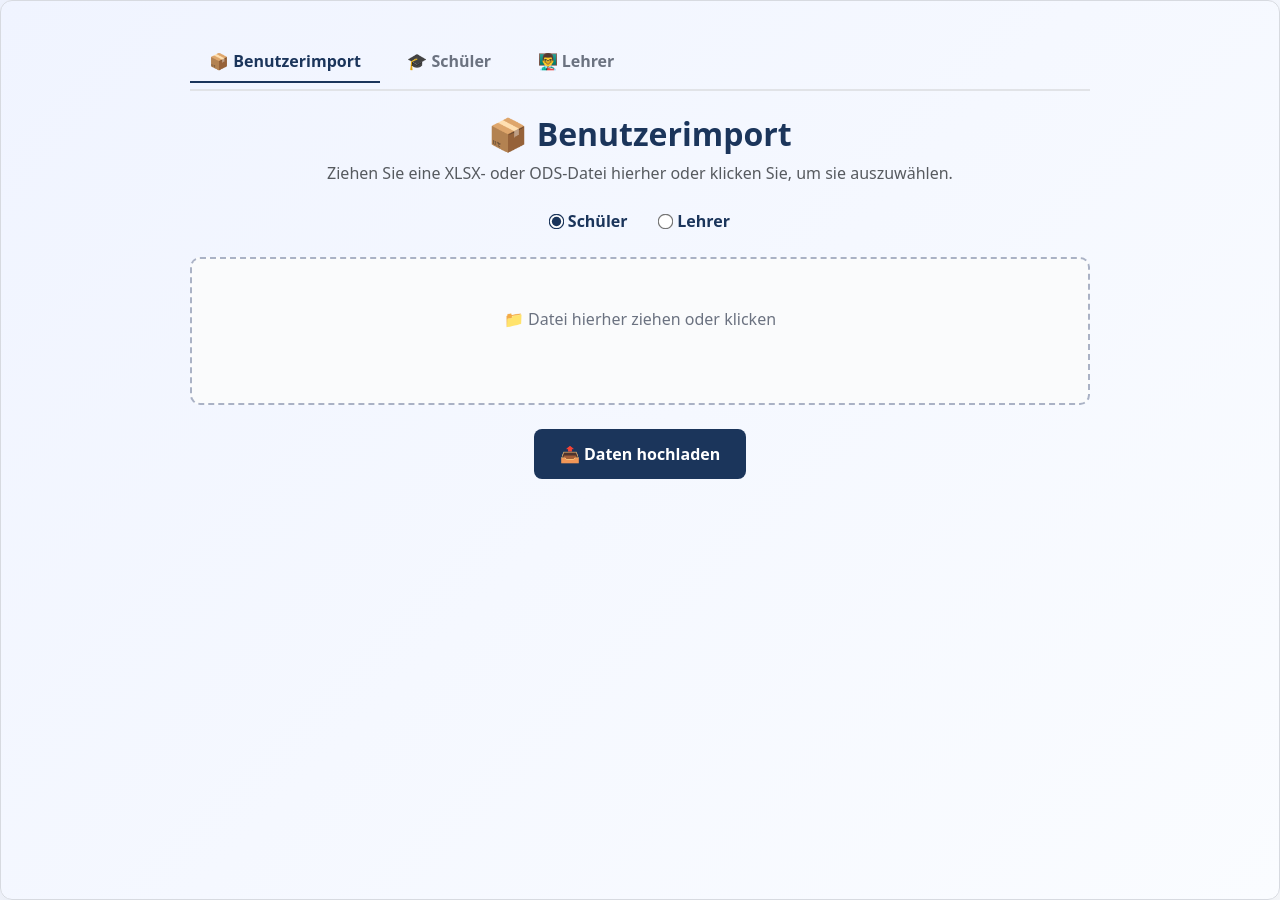
Test: Admin teacher class display › renders all teacher classes with formatted school years
Click the button "👨‍🏫 Lehrer".
click(576, 61)  # box [518, 41, 634, 81]
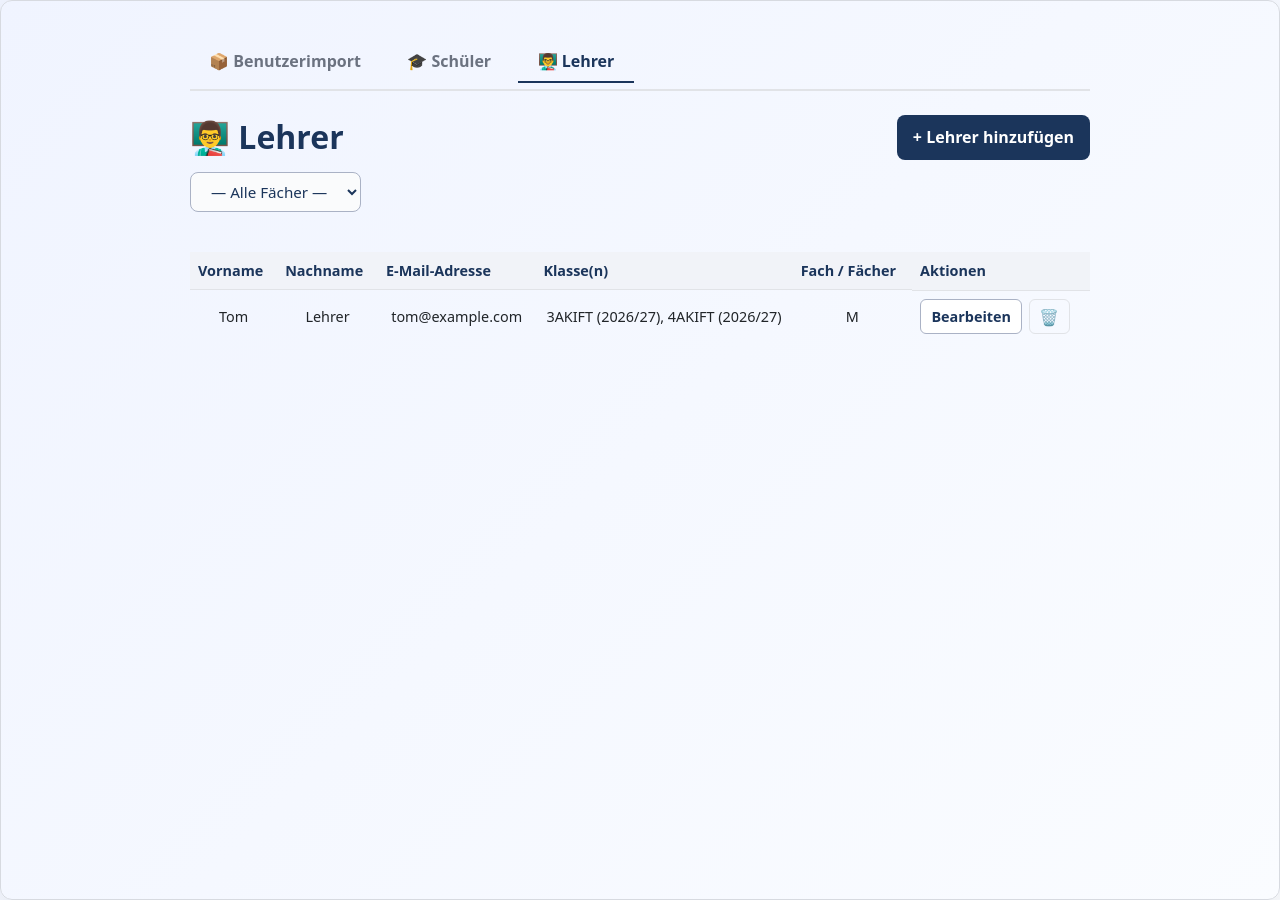
Check: the text "tom@example.com" is shown, box [378, 290, 535, 342]
Check: the text "3AKIFT (2026/27), 4AKIFT (2026/27)" is shown, box [535, 290, 793, 342]
Check: the column heading "Klasse(n)" is shown, box [535, 252, 793, 290]
